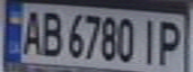0: (115, 13, 139, 64)
6: (63, 9, 84, 58)
7: (81, 11, 103, 61)
8: (100, 12, 121, 62)
A: (18, 6, 45, 56)
B: (39, 7, 66, 57)
I: (136, 15, 160, 66)
P: (154, 16, 187, 69)
